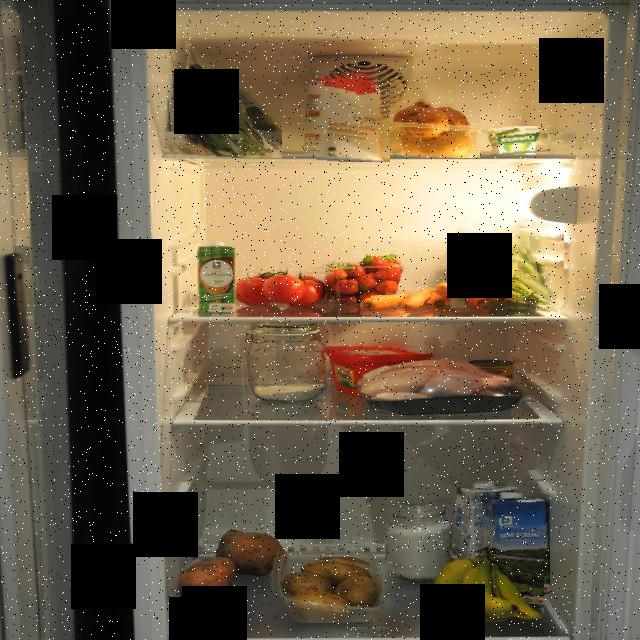banana: (424, 548, 544, 620)
butter: (325, 338, 433, 396)
carrot: (360, 270, 520, 315)
chicken: (354, 354, 532, 416)
flour: (240, 324, 330, 404)
goat_cheese: (485, 126, 551, 157)
green_beans: (447, 228, 564, 314)
heavy_cream: (197, 242, 238, 316)
milk: (441, 477, 517, 577), (484, 494, 550, 598)
onion: (391, 98, 480, 158)
potato: (286, 556, 380, 622)
spinach: (164, 44, 282, 158)
strawberries: (323, 254, 401, 308)
sugar: (304, 70, 390, 162), (387, 496, 453, 583)
sweet_potato: (180, 522, 282, 608)
tomato: (236, 265, 334, 313)
